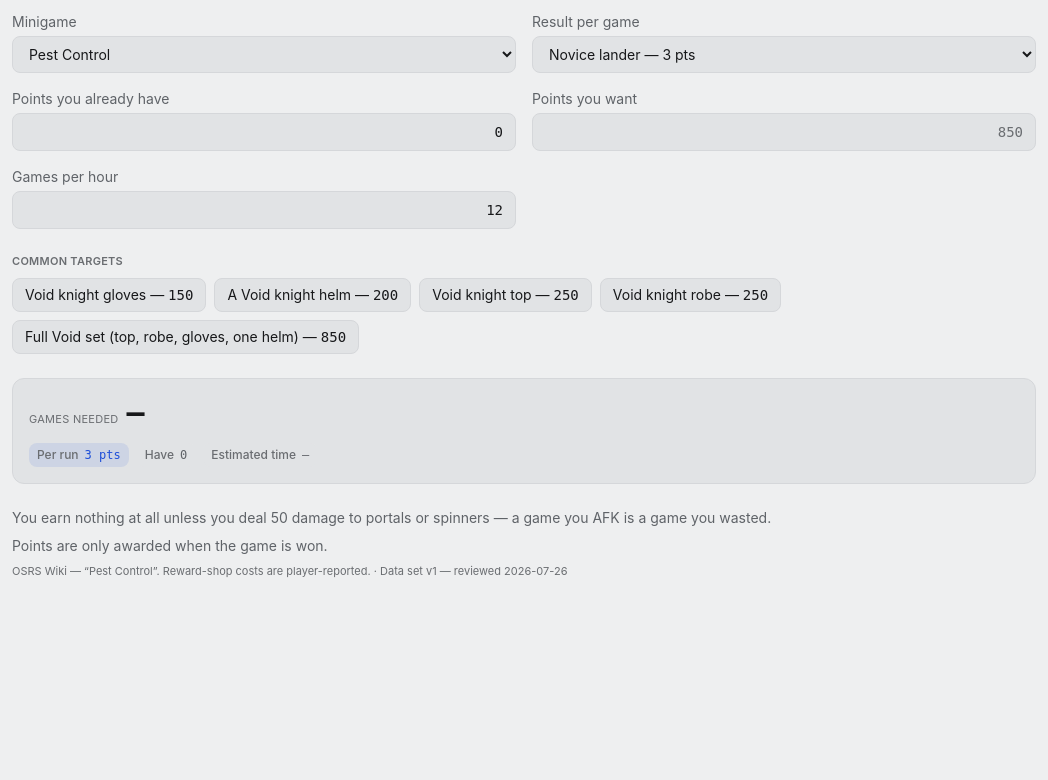
Test: MinigamePointsCalculator › subtracts the points you already have
Type "100" into the field labelled "Points you want" at [784, 132], box 532,113 -> 1036,151
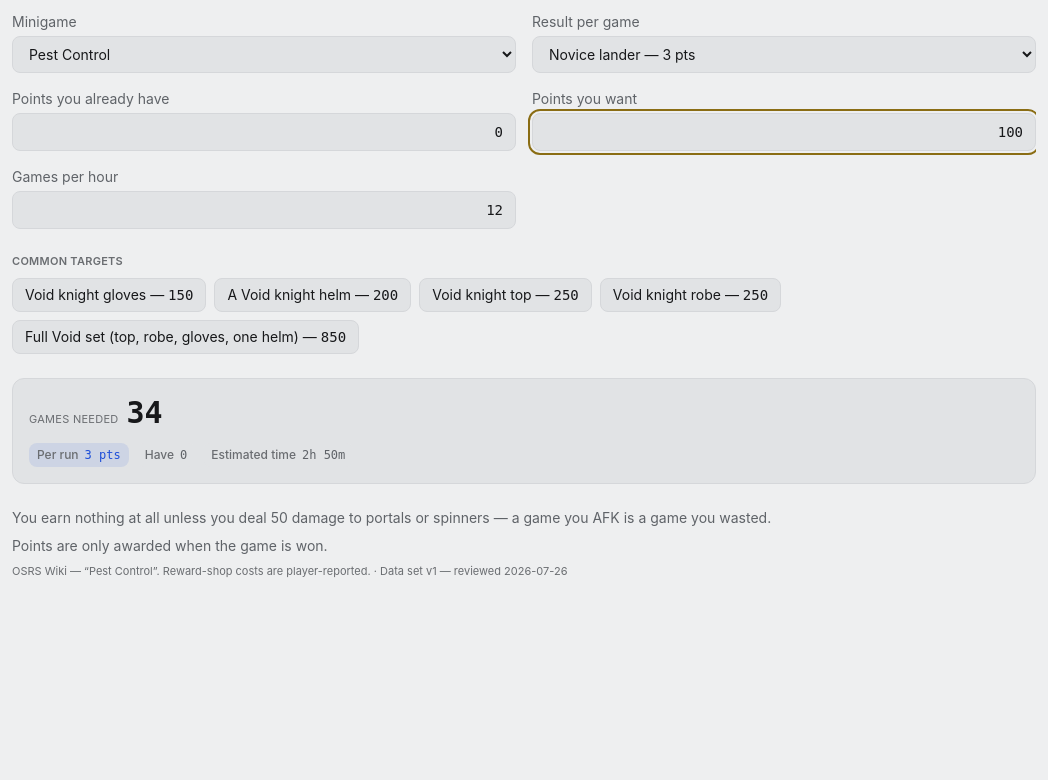
Replace the text in the field labelled "Points you already have" with "40" at [264, 132], box 12,113 -> 516,151
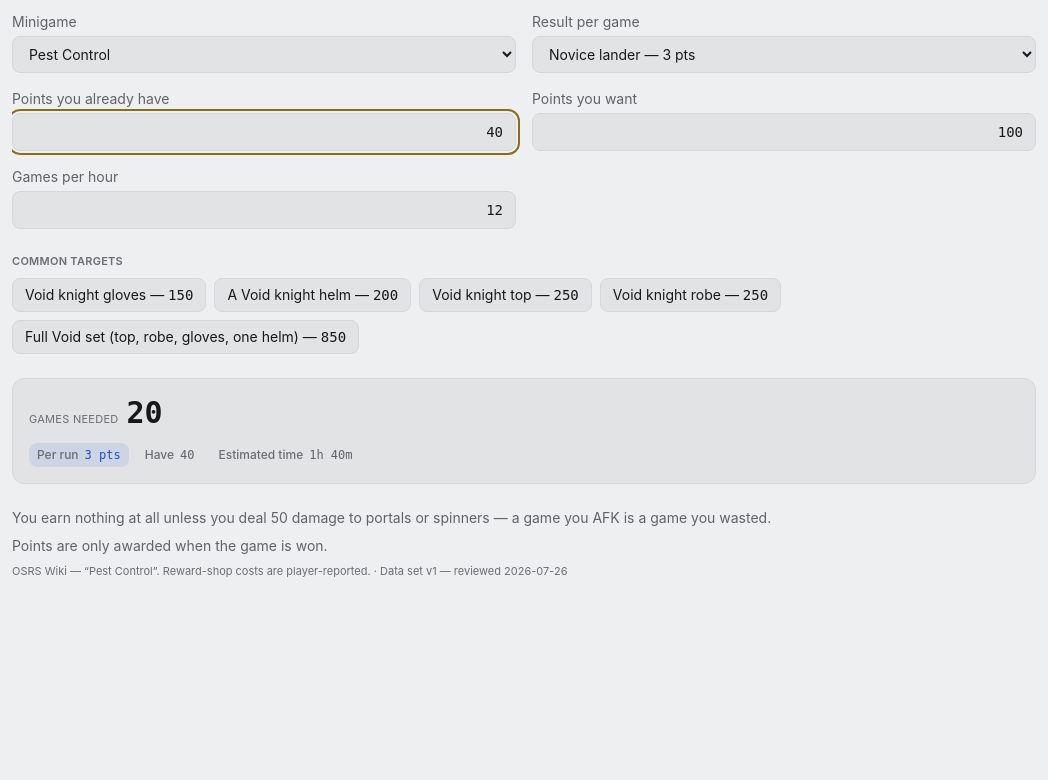
Result: the message reads "20" at 127,394 -> 163,430
